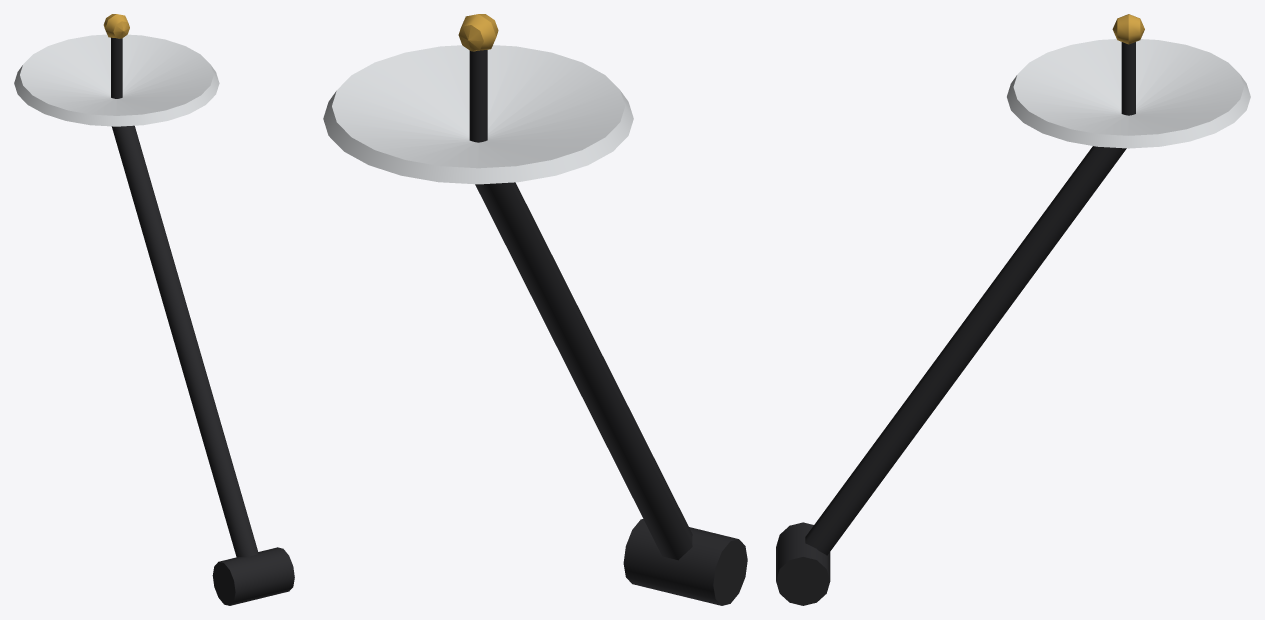
File: rd1_antenna.obj
3 renders of one model, left to right at view 1: azimuth 30°, elevation 25°; view 2: azimuth 150°, elevation 25°; view 3: azimuth 270°, elevation 25°, orthographic. The views are drawn at different scales.
Visible parts, largest first — view 1: rd1_antenna; view 2: rd1_antenna; view 3: rd1_antenna.
Part boxes in pixels (x1,y1,x2,y2): rd1_antenna: [14, 14, 294, 605]; rd1_antenna: [323, 14, 747, 605]; rd1_antenna: [776, 14, 1250, 605].
Size of the model in its own units: 0.18 by 0.467 by 0.35.
